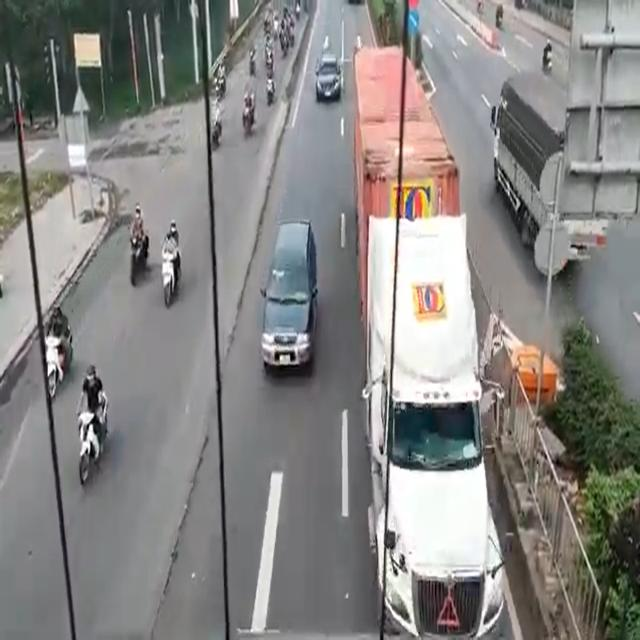car: (267, 222, 314, 378), (318, 42, 340, 112)
motor: (76, 406, 102, 482), (45, 332, 65, 408), (127, 234, 151, 291), (159, 251, 181, 310), (245, 102, 252, 138)
truck: (350, 46, 494, 635), (489, 70, 562, 250)
